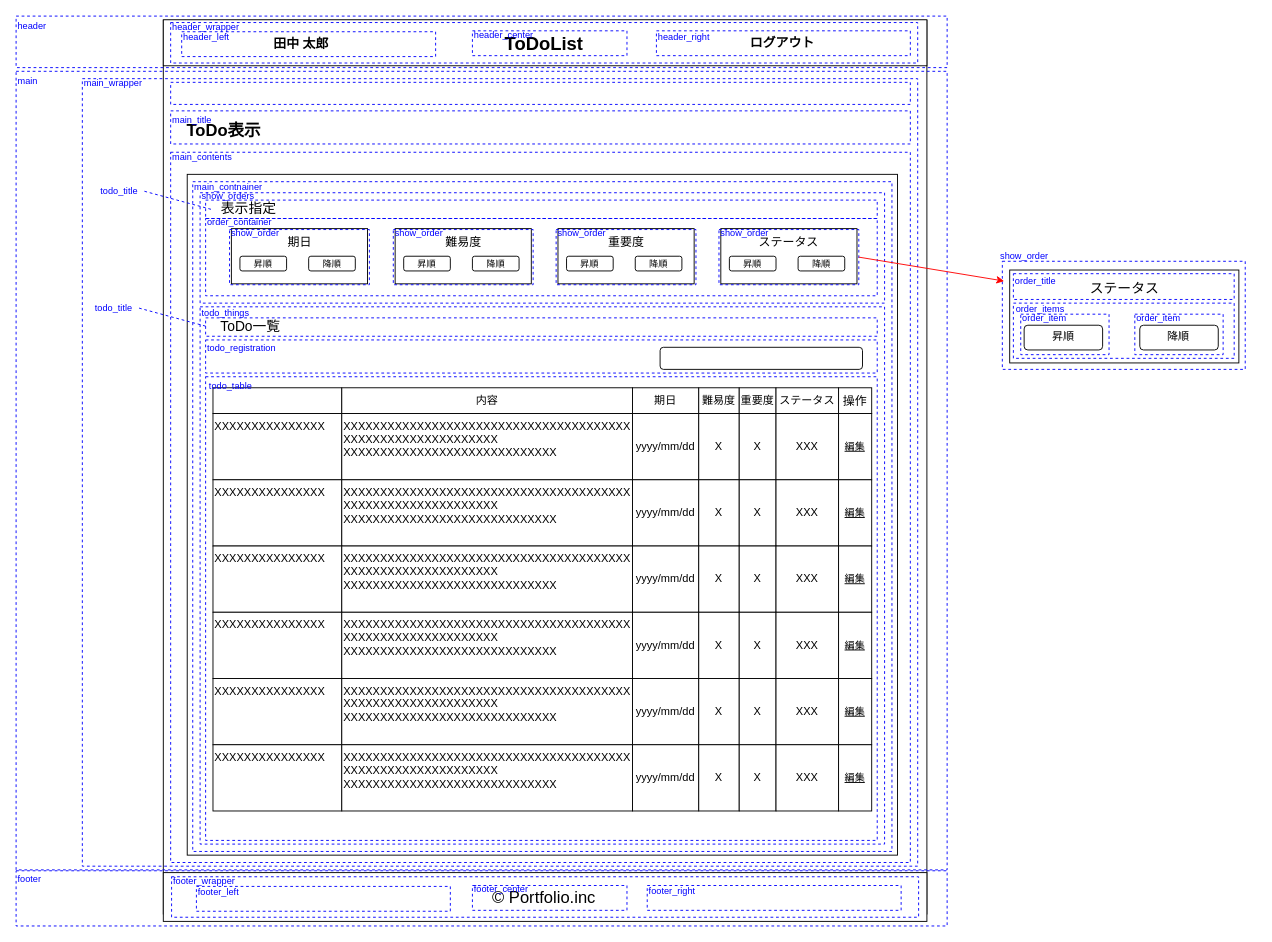
Image size: 1272x942. Some labels were removed from this diagram. Here are the shapes that lost their labels. From the top down, the centre of each, then its label:
At pixel 540 92: "main_message".
At pixel 760 357: "ToDo登録".
At pixel 277 400: "タイトル".
